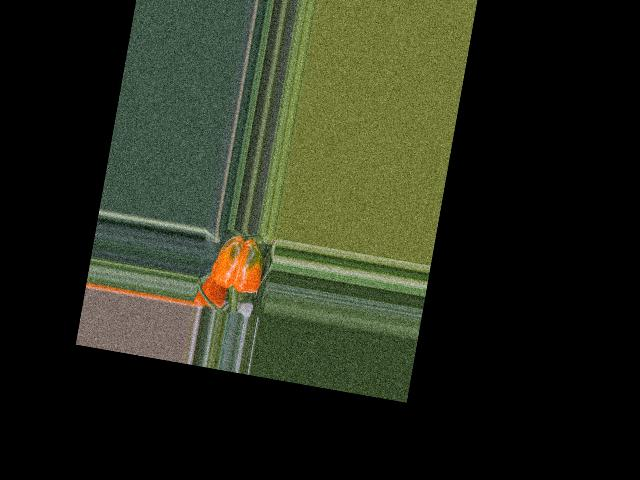bell_pepper: (205, 228, 275, 302)
